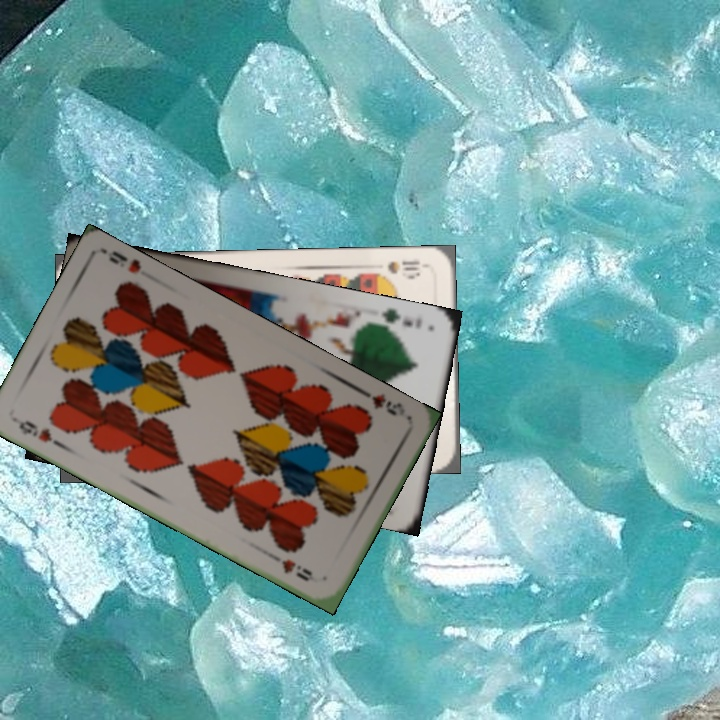GK: (372, 304, 425, 332)
H9: (356, 385, 408, 419), (15, 416, 55, 446)
S10: (383, 257, 422, 280)
